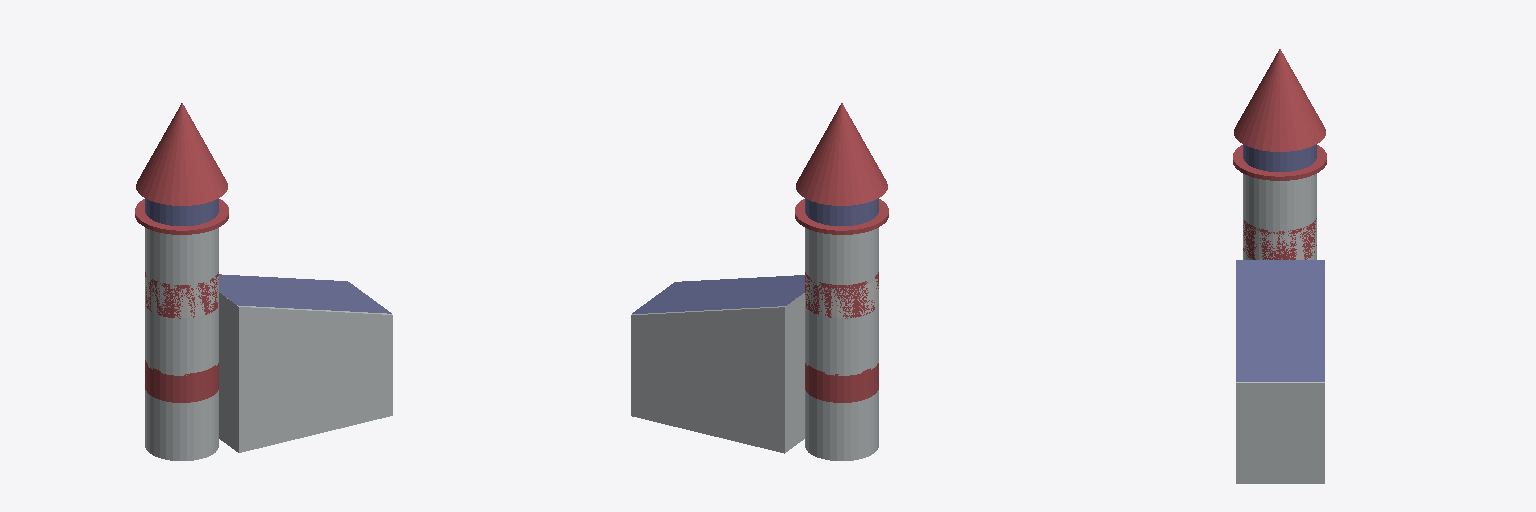
The model's file is lighthouse.obj.
3 renders of one model, left to right at view 1: azimuth 30°, elevation 25°; view 2: azimuth 150°, elevation 25°; view 3: azimuth 270°, elevation 25°, orthographic.
Visible parts, largest first — view 1: Cube, Cone, Plane_Plane.001, Cylinder, Cylinder.003, Cylinder.004, Cylinder.001, Cylinder.007, Cylinder.006, Cylinder.005, Cylinder.002; view 2: Cube, Cone, Plane_Plane.001, Cylinder, Cylinder.003, Cylinder.004, Cylinder.001, Cylinder.007, Cylinder.006, Cylinder.002, Cylinder.005; view 3: Plane_Plane.001, Cube, Cone, Cylinder.004, Cylinder.007, Cylinder.005, Cylinder.006, Cylinder.002.
Boxes of the visible parts, box(x1,y1,x2,y2) form: Cube: box(219, 293, 392, 452); Cone: box(136, 103, 227, 205); Plane_Plane.001: box(219, 274, 391, 313); Cylinder: box(145, 390, 218, 460); Cylinder.003: box(145, 304, 218, 375); Cylinder.004: box(145, 228, 218, 288); Cylinder.001: box(145, 360, 218, 402); Cylinder.007: box(145, 198, 218, 225); Cylinder.006: box(145, 276, 218, 317); Cylinder.005: box(135, 199, 228, 234); Cylinder.002: box(145, 272, 218, 318); Cube: box(631, 293, 804, 453); Cone: box(796, 103, 887, 205); Plane_Plane.001: box(632, 275, 804, 313); Cylinder: box(805, 390, 878, 460); Cylinder.003: box(805, 304, 878, 375); Cylinder.004: box(805, 228, 878, 288); Cylinder.001: box(805, 363, 878, 402); Cylinder.007: box(805, 198, 878, 225); Cylinder.006: box(805, 277, 878, 317); Cylinder.002: box(805, 272, 878, 318); Cylinder.005: box(795, 199, 888, 234); Plane_Plane.001: box(1236, 260, 1324, 381); Cube: box(1236, 382, 1324, 483); Cone: box(1234, 49, 1325, 151); Cylinder.004: box(1243, 174, 1316, 234); Cylinder.007: box(1243, 144, 1316, 171); Cylinder.005: box(1233, 145, 1326, 180); Cylinder.006: box(1243, 221, 1316, 259); Cylinder.002: box(1243, 218, 1316, 259).
Bounding box in the file's own units: 5.97 × 8.53 × 2.13.